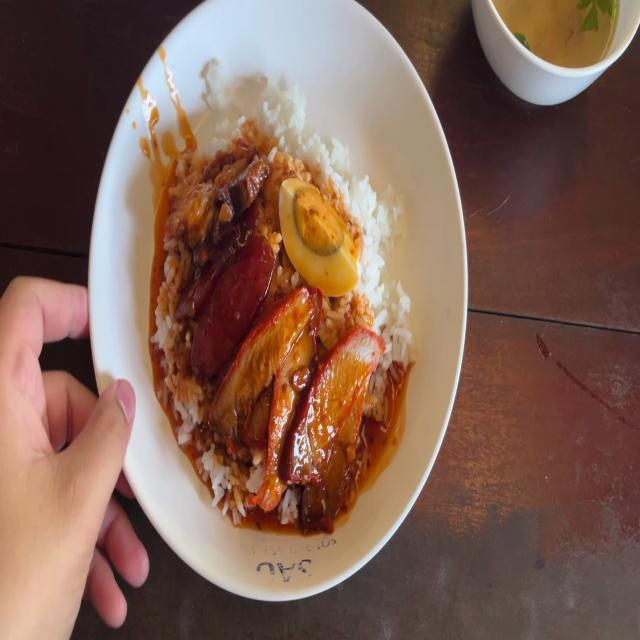red_pork_and_crispy_pork: (282, 181, 358, 291)
